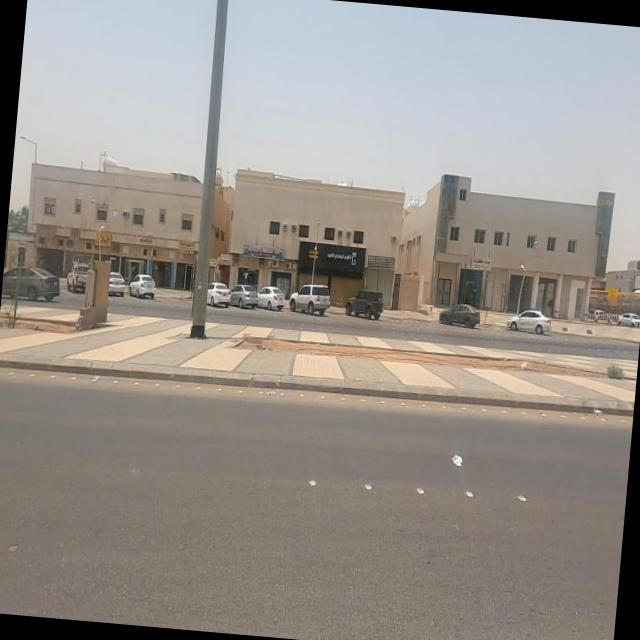debris: (422, 416, 488, 499)
